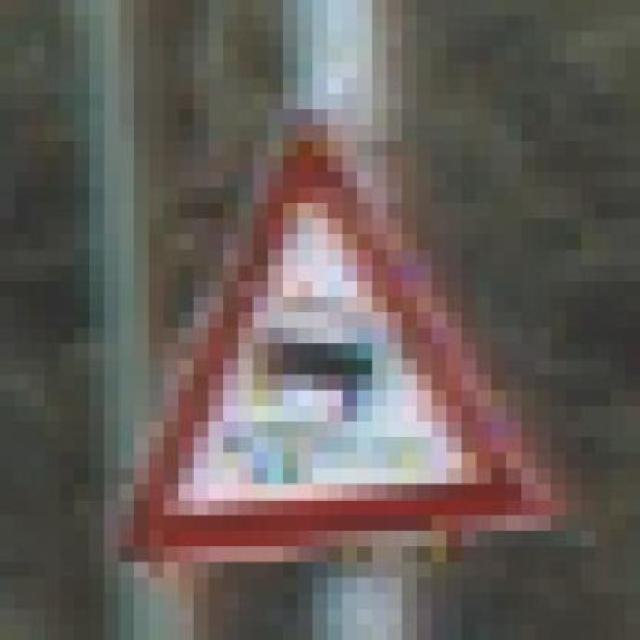Slippery Road Ahead: (89, 93, 580, 578)
